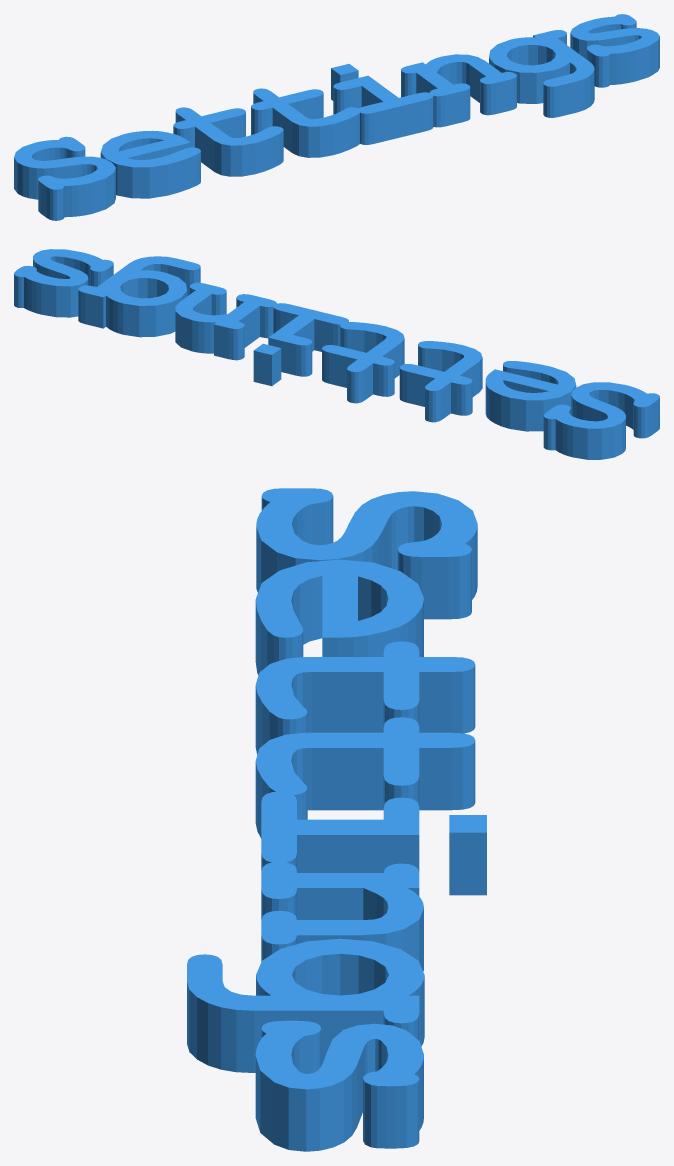
The model's file is Settings.glb.
3 renders of one model, top to bottom at view 1: azimuth 30°, elevation 25°; view 2: azimuth 150°, elevation 25°; view 3: azimuth 270°, elevation 25°, orthographic. The views are drawn at different scales.
Visible parts, largest first — view 1: Settings; view 2: Settings; view 3: Settings.
Boxes of the visible parts, x1=… form: Settings: x1=14, y1=14, x2=659, y2=220; Settings: x1=14, y1=249, x2=659, y2=459; Settings: x1=187, y1=488, x2=486, y2=1151.
Size of the model in its own units: 2.07 by 0.1 by 0.436.
